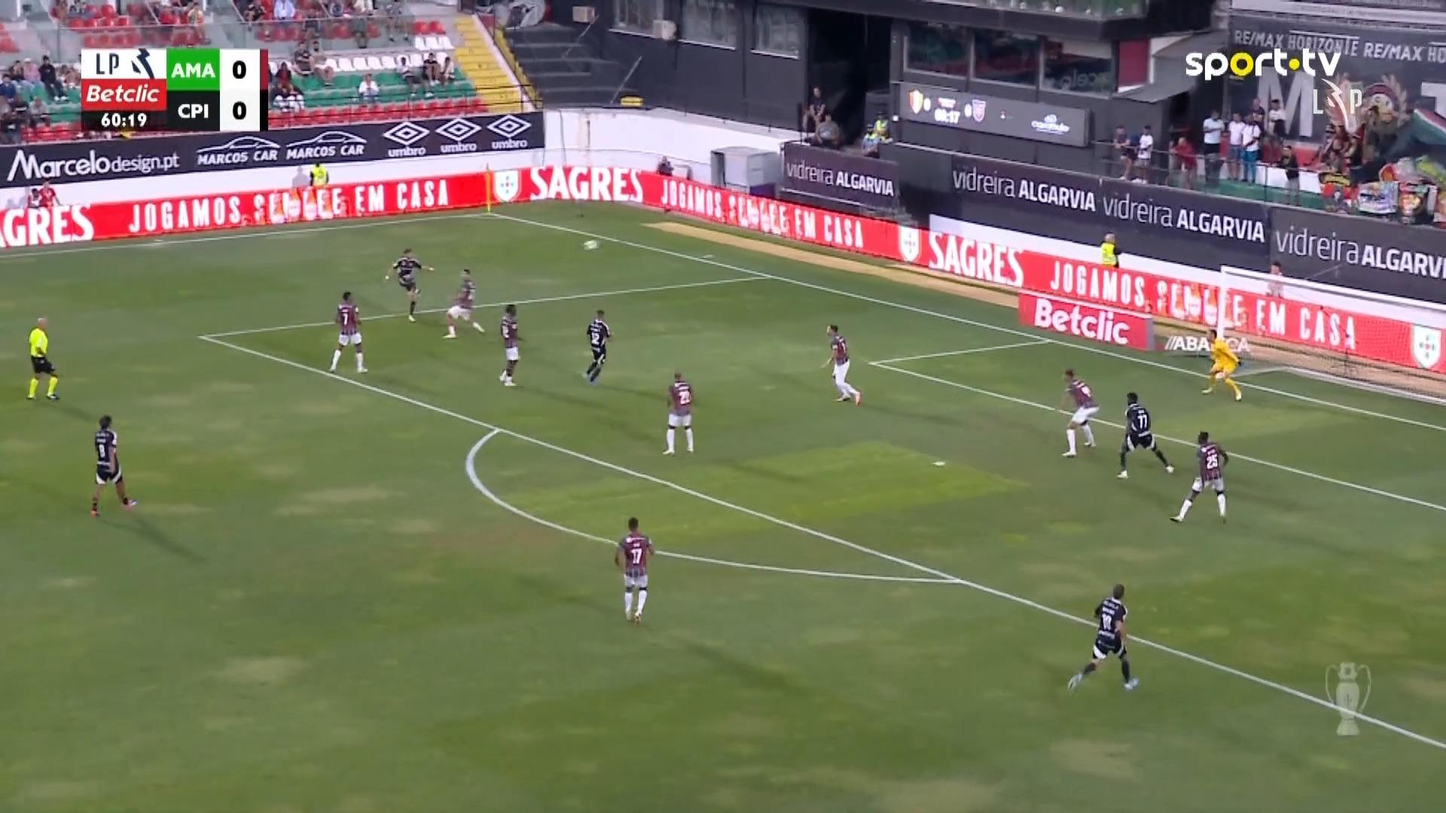ball: (583, 239, 599, 251)
goalkeeper: (1198, 326, 1243, 400)
player: (1066, 583, 1139, 694), (1169, 430, 1229, 523), (1115, 391, 1174, 478), (89, 414, 138, 517), (613, 516, 654, 624), (1057, 367, 1100, 457), (384, 247, 434, 322), (821, 323, 862, 406), (328, 290, 368, 373), (442, 267, 485, 339), (661, 370, 694, 455), (583, 309, 612, 383), (498, 303, 523, 386)
referee: (26, 315, 60, 400)
